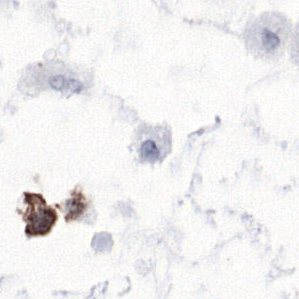Lymphocyte: (19, 191, 59, 237)
